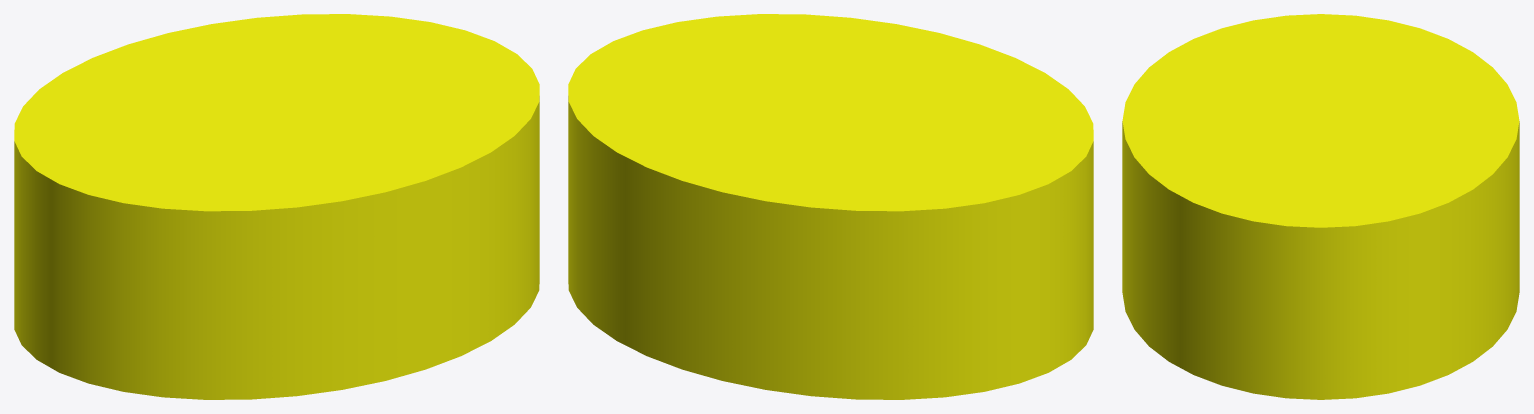
The model's file is yellow.FBX.
3 renders of one model, left to right at view 1: azimuth 30°, elevation 25°; view 2: azimuth 150°, elevation 25°; view 3: azimuth 270°, elevation 25°, orthographic. The views are drawn at different scales.
Visible parts, largest first — view 1: Cylinder001; view 2: Cylinder001; view 3: Cylinder001.
Boxes of the visible parts, x1,y1,x2,y2 form: Cylinder001: [14, 14, 539, 399]; Cylinder001: [568, 14, 1093, 399]; Cylinder001: [1122, 14, 1519, 399].
Size of the model in its own units: 40 by 15.02 by 31.39.
